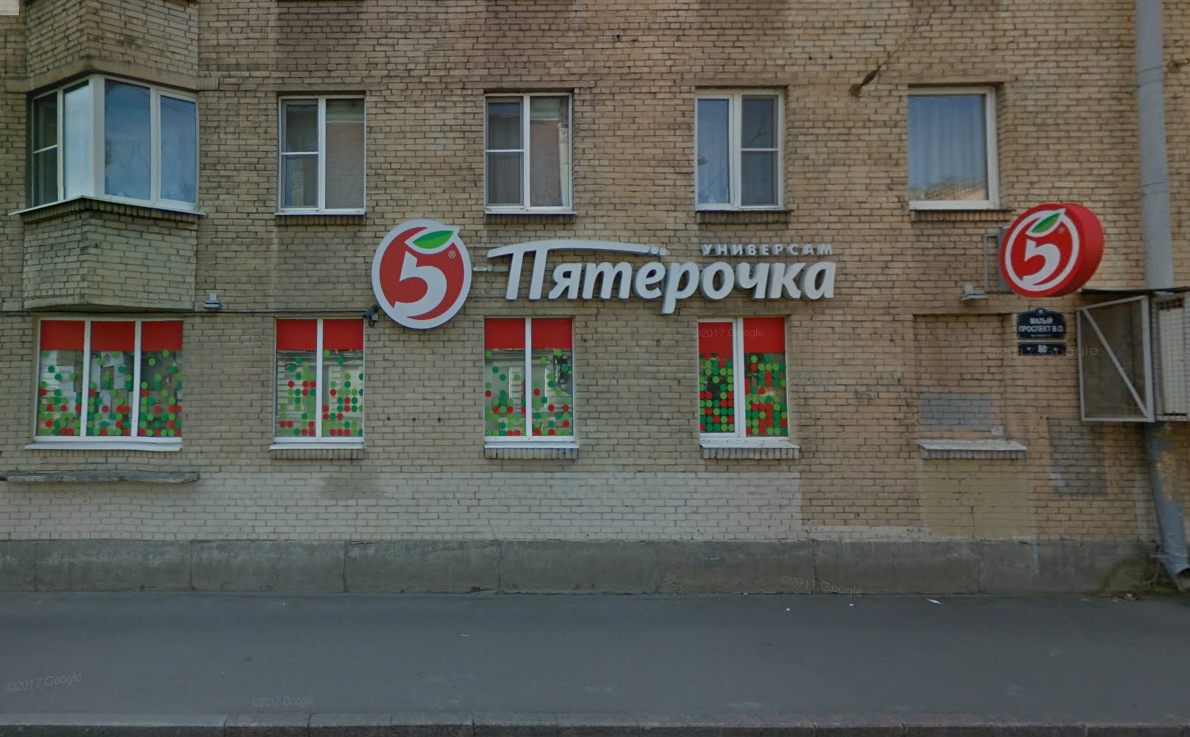cantilever: (951, 194, 1117, 306)
signboard: (360, 214, 844, 331)
window: (24, 85, 206, 211), (38, 315, 177, 448), (274, 315, 364, 450), (701, 313, 791, 443), (485, 320, 577, 445), (696, 87, 787, 211), (274, 96, 367, 211), (486, 89, 571, 211), (911, 87, 996, 205)
